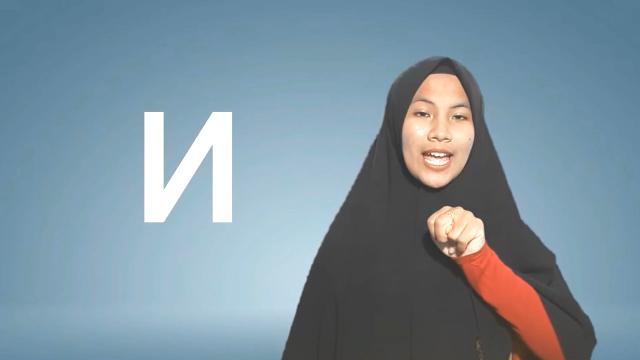N: (427, 203, 489, 261)
